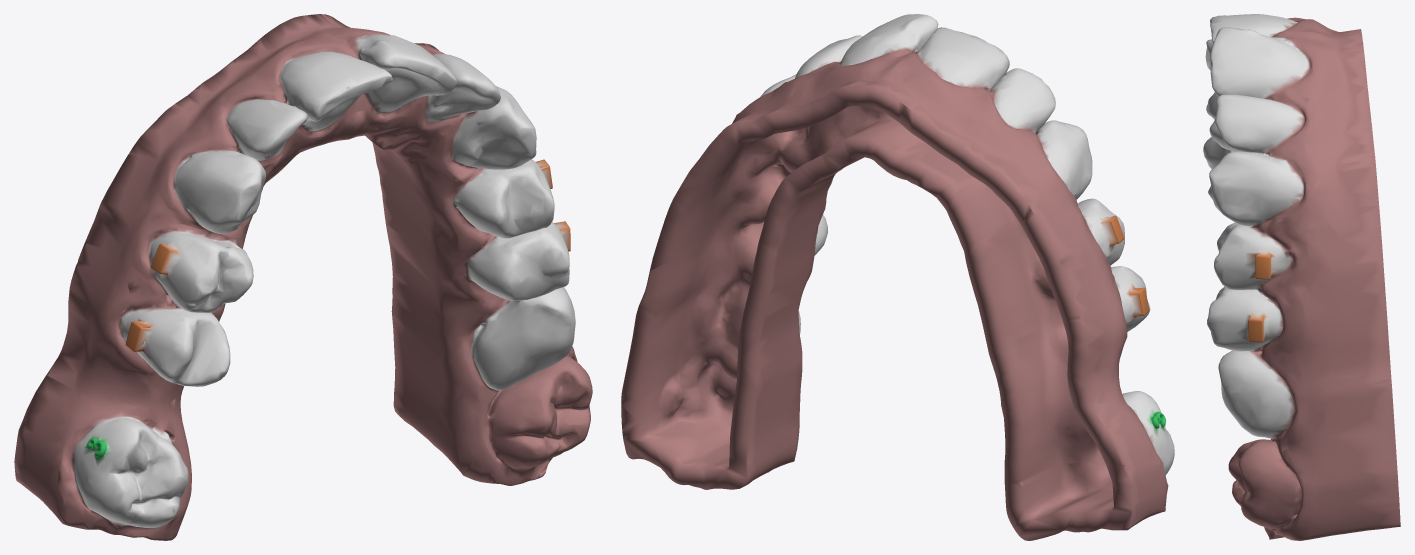
The model's file is upper-model-3.glb.
The picture shows the model from 3 angles, left to right: view 1: azimuth 30°, elevation 25°; view 2: azimuth 150°, elevation 25°; view 3: azimuth 270°, elevation 25°; orthographic projection. The views are drawn at different scales.
Visible parts, largest first — view 1: 3; view 2: 3; view 3: 3.
Part boxes in pixels (<box>): 3: <box>14,14,592,540</box>; 3: <box>621,14,1174,540</box>; 3: <box>1203,14,1400,540</box>.
Bounding box in the file's own units: 56.92 × 50.06 × 20.54.
